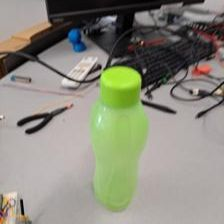bottle: (87, 65, 150, 214)
